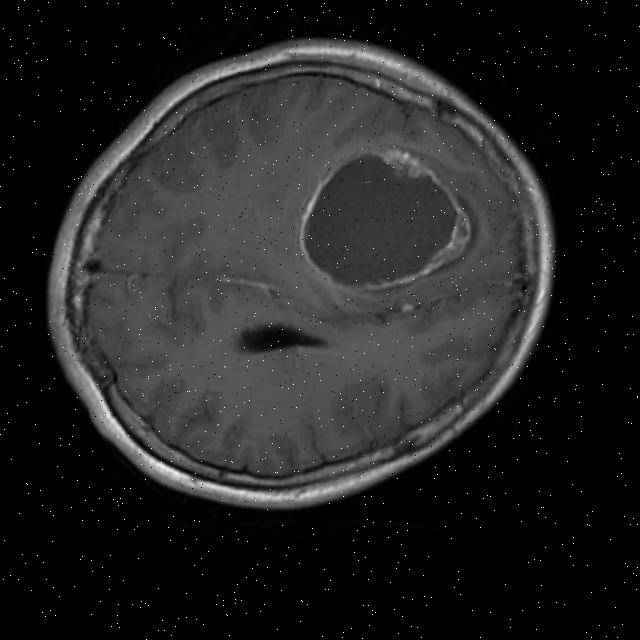Glioma: (290, 130, 485, 312)
